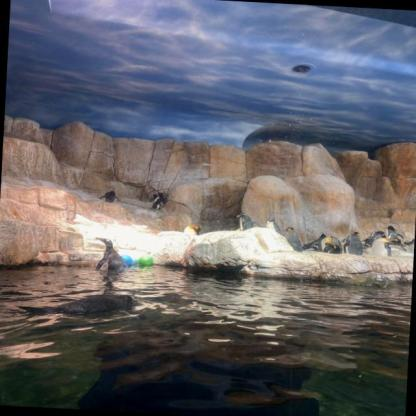penguin: (19, 289, 138, 326), (94, 237, 128, 273), (370, 236, 404, 258), (235, 212, 260, 233), (343, 231, 363, 255), (283, 227, 302, 251), (365, 230, 387, 248), (148, 191, 166, 211), (299, 239, 321, 252), (329, 233, 342, 254), (387, 225, 404, 241), (100, 190, 118, 203), (316, 232, 327, 252), (267, 217, 280, 233), (184, 224, 201, 236), (404, 239, 414, 248)
